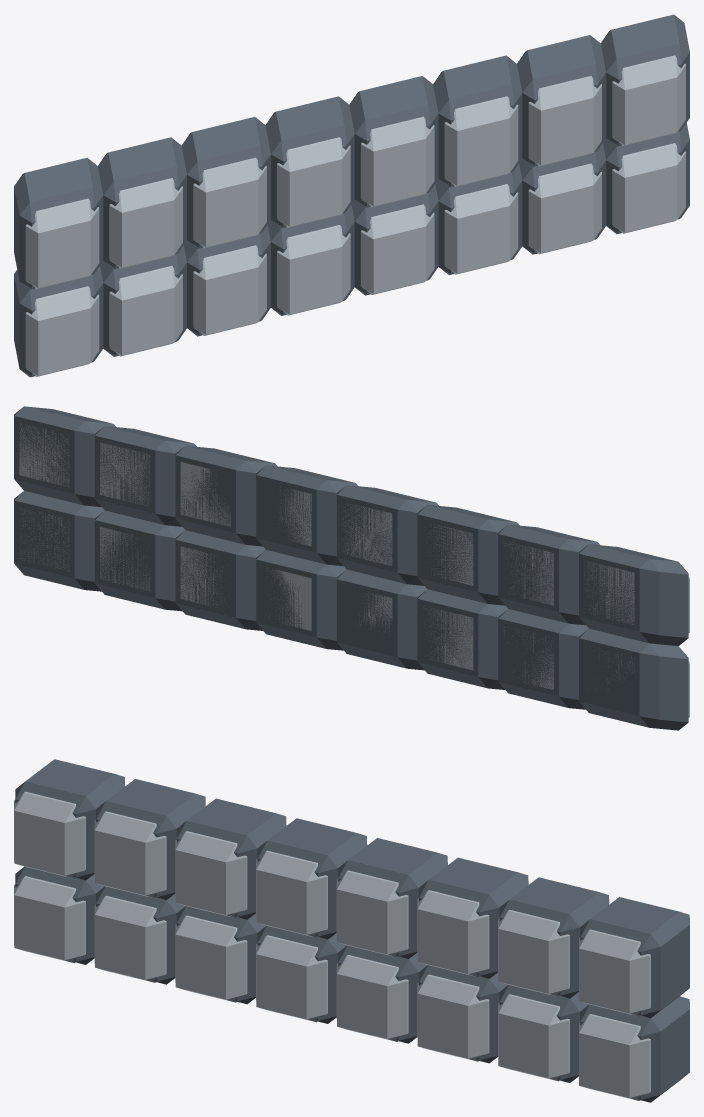
The model's file is Terrain_Block8x2.gltf.
3 views of the same model, one above another, from view 1: azimuth 30°, elevation 25°; view 2: azimuth 150°, elevation 25°; view 3: azimuth 330°, elevation 25° (orthographic). The views are drawn at different scales.
Visible parts, largest first — view 1: Terrain_Block8x2_baked; view 2: Terrain_Block8x2_baked; view 3: Terrain_Block8x2_baked.
Part boxes in pixels (x1,y1,x2,y2): Terrain_Block8x2_baked: (14, 14, 689, 377); Terrain_Block8x2_baked: (14, 406, 689, 730); Terrain_Block8x2_baked: (14, 759, 689, 1102).
Size of the model in its own units: 8.15 by 2.15 by 0.7.
